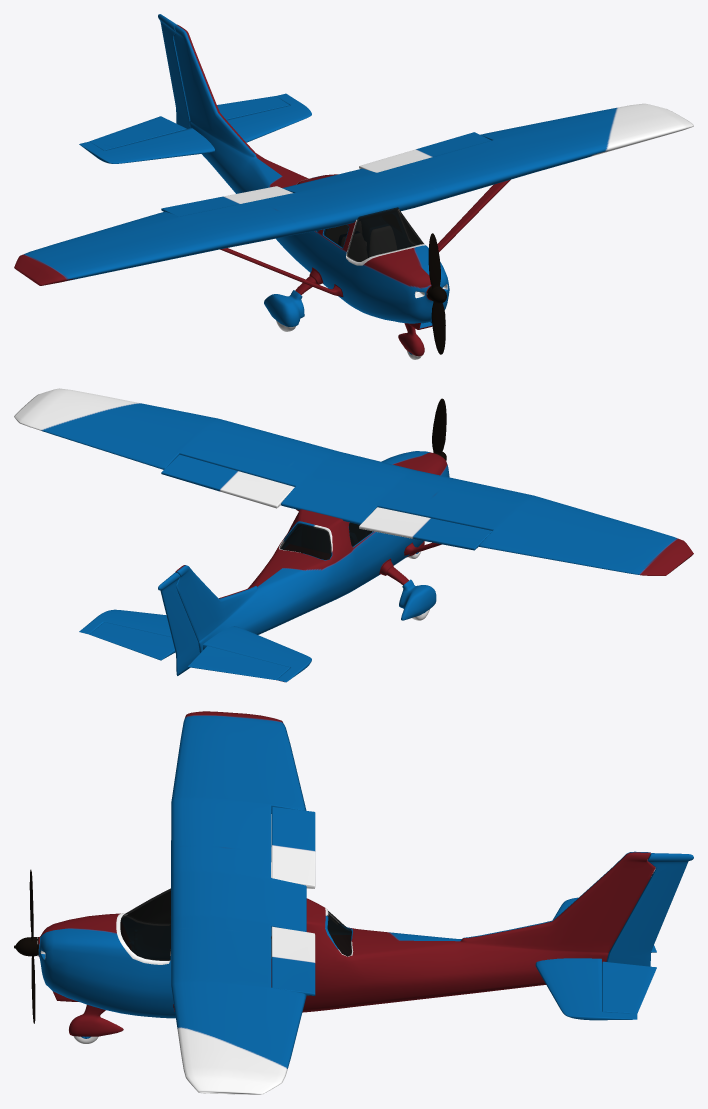
Rendered from Avion.glb.
3 renders of one model, top to bottom at view 1: azimuth 30°, elevation 25°; view 2: azimuth 150°, elevation 25°; view 3: azimuth 270°, elevation 25°, orthographic. The views are drawn at different scales.
Visible parts, largest first — view 1: 11804_Airplane_v2_l2, Hélice; view 2: 11804_Airplane_v2_l2, Hélice; view 3: 11804_Airplane_v2_l2, Hélice.
Boxes of the visible parts, x1,y1,x2,y2 form: 11804_Airplane_v2_l2: (14,14,693,359); Hélice: (427,233,446,354); 11804_Airplane_v2_l2: (14,388,693,682); Hélice: (432,398,446,460); 11804_Airplane_v2_l2: (38,711,693,1094); Hélice: (14,869,38,1023).
Size of the model in its own units: 15.57 by 3.65 by 11.77.
3 materials, 2 textured.
